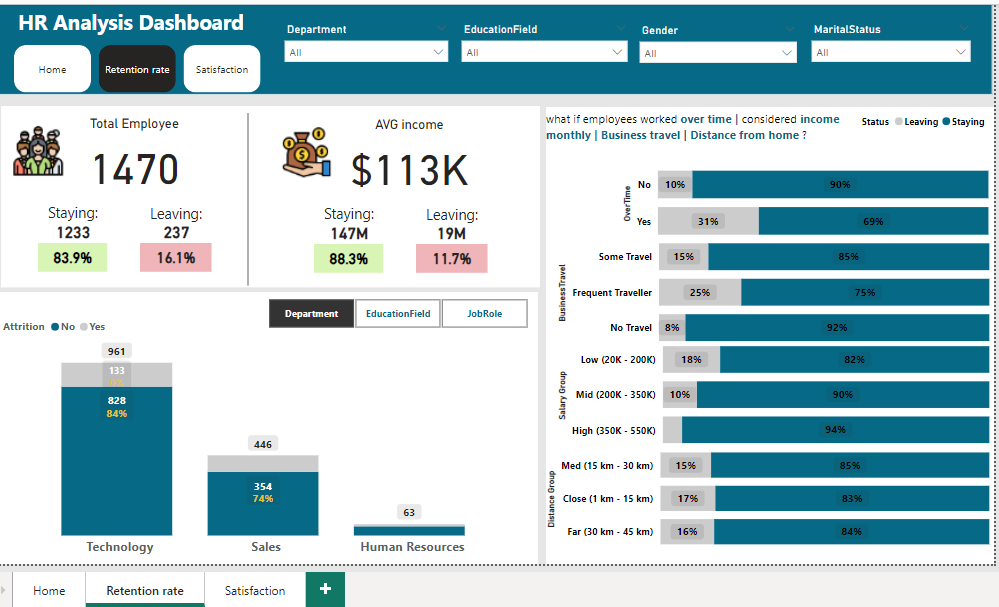

The dashboard page shown, as its layout file describes it:
{"tool":"powerbi","page":{"name":"Retention rate","canvas":[1280,720],"ordinal":1},"visuals":[{"type":"shape","box":[704.2,132.5,576,587.5],"z":0},{"type":"shape","box":[4.3,131,692.6,233.3],"z":1000},{"type":"shape","box":[1.4,0,1277.3,116.6],"z":2000},{"type":"slicer","fields":{"Values":["Employee.Department"]},"box":[358.6,19.8,230.1,60.7],"z":3000},{"type":"slicer","fields":{"Values":["Employee.EducationField"]},"box":[585.9,19.8,232.9,63.5],"z":4000},{"type":"shape","box":[0,370.1,694.1,349.9],"z":5000},{"type":"slicer","fields":{"Values":["Employee.Gender"]},"box":[815,20.2,221.8,61.9],"z":6000},{"type":"slicer","fields":{"Values":["Employee.MaritalStatus"]},"box":[1036.2,19.8,224.5,60.7],"z":7000},{"type":"textbox","box":[20.2,0,318.2,51.8],"z":8000},{"type":"columnChart","fields":{"Category":["Employee.Department"],"Y":["CountNonNull(Employee.staying)"],"Series":["Employee.Attrition"]},"box":[1.4,394.6,686.9,324],"z":9000},{"type":"slicer","fields":{"Values":["Parameter.Parameter"]},"box":[322.6,373,381.6,50.4],"z":10000},{"type":"shape","box":[303.8,139.7,36,221.8],"z":11000},{"type":"card","title":"Total Employee","fields":{"Values":["CountNonNull(Employee.EmployeeID)"]},"box":[57.6,144,234.7,103.7],"z":11000,"group":"g1"},{"type":"card","title":"AVG income","fields":{"Values":["Employee.Average Salary"]},"box":[411.9,145.4,234.7,103.7],"z":11000,"group":"g2"},{"type":"group","id":"g1","title":"Group 1","box":[10.1,144,282.2,200.2],"z":12000},{"type":"card","fields":{"Values":["Employee.Attrition Rate"]},"box":[182.9,306.7,92.2,37.4],"z":12000,"group":"g1"},{"type":"card","fields":{"Values":["Employee.Leaving salary %"]},"box":[537.1,308.1,92.2,37.4],"z":12000,"group":"g2"},{"type":"group","id":"g2","title":"Group 1","box":[406.1,145.4,240.5,200.2],"z":13000},{"type":"card","fields":{"Values":["Employee.Active No of Employees Per Year"]},"box":[59.1,269.3,74.9,49],"z":13000,"group":"g1"},{"type":"card","fields":{"Values":["Employee.staying salary"]},"box":[413.3,270.7,74.9,49],"z":13000,"group":"g2"},{"type":"image","box":[352.8,148.3,86.4,86.4],"z":14000},{"type":"card","fields":{"Values":["Employee.Non-Active No of Employees Per Year"]},"box":[188.7,267.8,80.6,51.8],"z":14000,"group":"g1"},{"type":"card","fields":{"Values":["Employee.Leaving salary"]},"box":[542.9,269.2,80.6,51.8],"z":14000,"group":"g2"},{"type":"pageNavigator","box":[20.8,52.1,318.5,61],"z":15000},{"type":"card","fields":{"Values":["Employee.Staying %"]},"box":[51.9,306.7,89.3,37.4],"z":15000,"group":"g1"},{"type":"card","fields":{"Values":["Employee.Staying salary %"]},"box":[406.1,308.1,89.3,37.4],"z":15000,"group":"g2"},{"type":"hundredPercentStackedBarChart","fields":{"Series":["Employee.Status"],"Y":["CountNonNull(Employee.EmployeeID)"],"Category":["Employee.OverTime"]},"box":[799.1,131.3,480,214.6],"z":16000},{"type":"textbox","box":[59.1,250.6,89.3,36],"z":16000,"group":"g1"},{"type":"textbox","box":[413.3,252,89.3,36],"z":16000,"group":"g2"},{"type":"image","box":[10.1,149.8,83.5,83.5],"z":17000,"group":"g1"},{"type":"hundredPercentStackedBarChart","fields":{"Series":["Employee.Status"],"Y":["CountNonNull(Employee.EmployeeID)"],"Category":["Employee.Distance Group"]},"box":[700.2,546.4,578.8,172.2],"z":17000},{"type":"textbox","box":[190.1,252,89.3,36],"z":18000,"group":"g1"},{"type":"textbox","box":[544.3,253.4,89.3,36],"z":18000,"group":"g2"},{"type":"hundredPercentStackedBarChart","fields":{"Series":["Employee.Status"],"Y":["CountNonNull(Employee.EmployeeID)"],"Category":["Employee.Salary Group"]},"box":[714.4,409.4,564.7,180.7],"z":18000},{"type":"hundredPercentStackedBarChart","fields":{"Series":["Employee.Status"],"Y":["CountNonNull(Employee.EmployeeID)"],"Category":["Employee.BusinessTravel"]},"box":[714.4,276.7,564.7,182.1],"z":19000},{"type":"textbox","box":[699.8,132.5,433.4,59],"z":20000}]}

Visuals, with their boxes on the page's 1280x720 design canvas (x1, y1, x2, y2). These are canvas units, not pixel positions in the 999x607 screenshot, which may show the page scaled, cropped or inside an application window:
shape: (704,132,1280,720)
shape: (4,131,697,364)
shape: (1,0,1279,117)
slicer - Employee.Department: (359,20,589,80)
slicer - Employee.EducationField: (586,20,819,83)
shape: (0,370,694,720)
slicer - Employee.Gender: (815,20,1037,82)
slicer - Employee.MaritalStatus: (1036,20,1261,80)
textbox: (20,0,338,52)
columnChart - Employee.Department x CountNonNull(Employee.staying): (1,395,688,719)
slicer - Parameter.Parameter: (323,373,704,423)
shape: (304,140,340,362)
"Total Employee" card: (58,144,292,248)
"AVG income" card: (412,145,647,249)
"Group 1" group: (10,144,292,344)
card - Employee.Attrition Rate: (183,307,275,344)
card - Employee.Leaving salary %: (537,308,629,346)
"Group 1" group: (406,145,647,346)
card - Employee.Active No of Employees Per Year: (59,269,134,318)
card - Employee.staying salary: (413,271,488,320)
image: (353,148,439,235)
card - Employee.Non-Active No of Employees Per Year: (189,268,269,320)
card - Employee.Leaving salary: (543,269,624,321)
pageNavigator: (21,52,339,113)
card - Employee.Staying %: (52,307,141,344)
card - Employee.Staying salary %: (406,308,495,346)
hundredPercentStackedBarChart - Employee.Status x CountNonNull(Employee.EmployeeID): (799,131,1279,346)
textbox: (59,251,148,287)
textbox: (413,252,503,288)
image: (10,150,94,233)
hundredPercentStackedBarChart - Employee.Status x CountNonNull(Employee.EmployeeID): (700,546,1279,719)
textbox: (190,252,279,288)
textbox: (544,253,634,289)
hundredPercentStackedBarChart - Employee.Status x CountNonNull(Employee.EmployeeID): (714,409,1279,590)
hundredPercentStackedBarChart - Employee.Status x CountNonNull(Employee.EmployeeID): (714,277,1279,459)
textbox: (700,132,1133,192)
